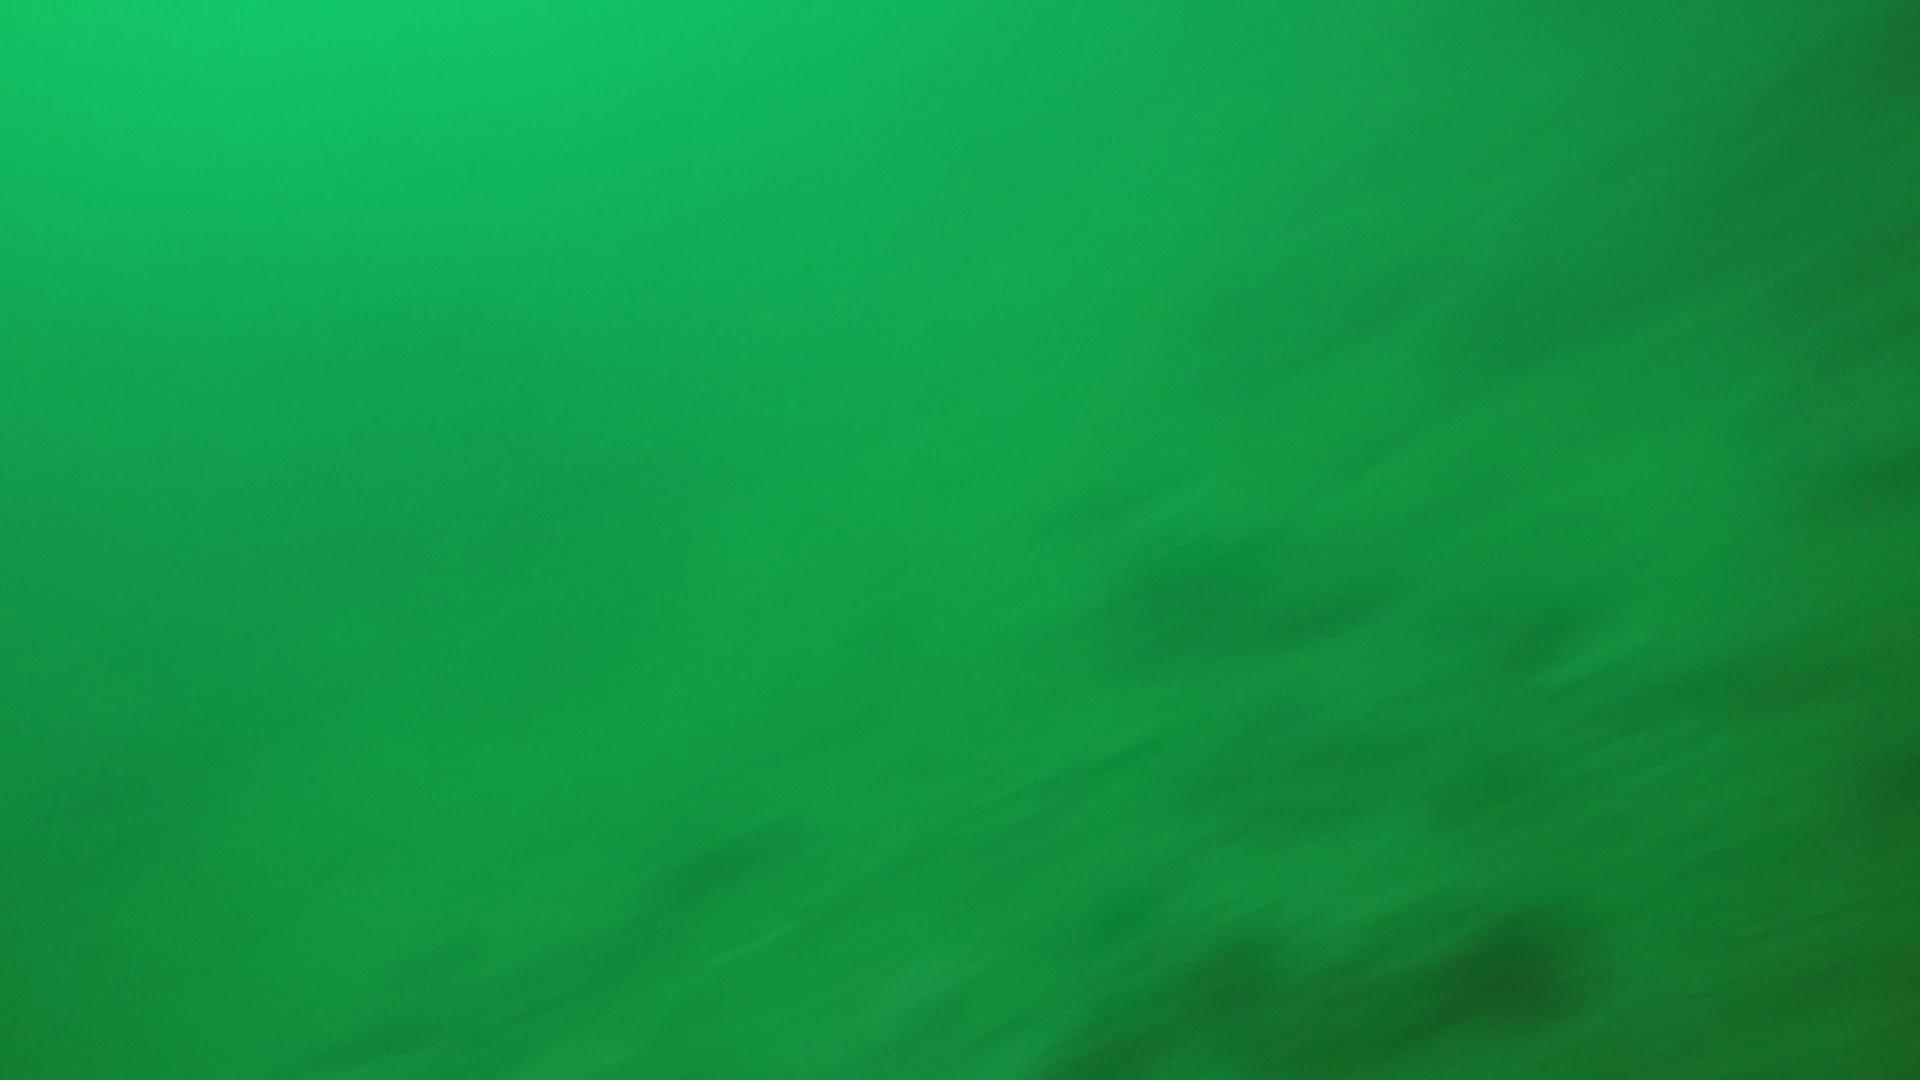echinus: (1455, 905, 1593, 1029), (1187, 916, 1291, 1015), (1847, 731, 1920, 825)
